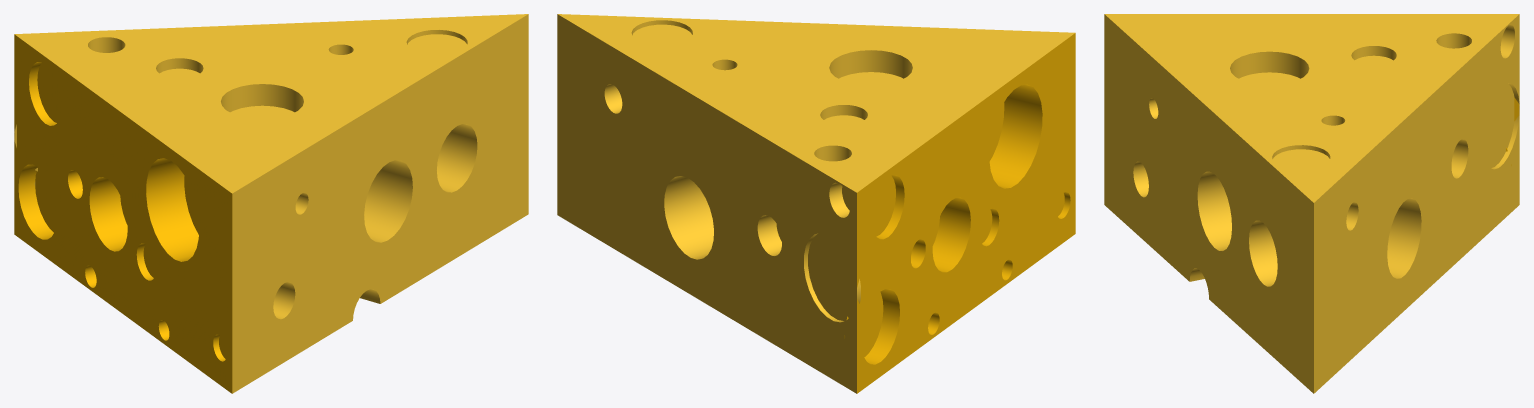
Rendered from cheese.dae.
3 views of the same model, side by side, from view 1: azimuth 30°, elevation 25°; view 2: azimuth 150°, elevation 25°; view 3: azimuth 270°, elevation 25° (orthographic). The views are drawn at different scales.
Parts seen in each view (by area): view 1: SketchUp (×14); view 2: SketchUp (×16); view 3: SketchUp (×13).
Part boxes in pixels (box(x1,y1,x2,y2)): SketchUp (×14): box(14, 14, 528, 393); SketchUp (×16): box(557, 14, 1075, 393); SketchUp (×13): box(1104, 14, 1519, 393).
Bounding box in the file's own units: 304 × 281 × 143.
